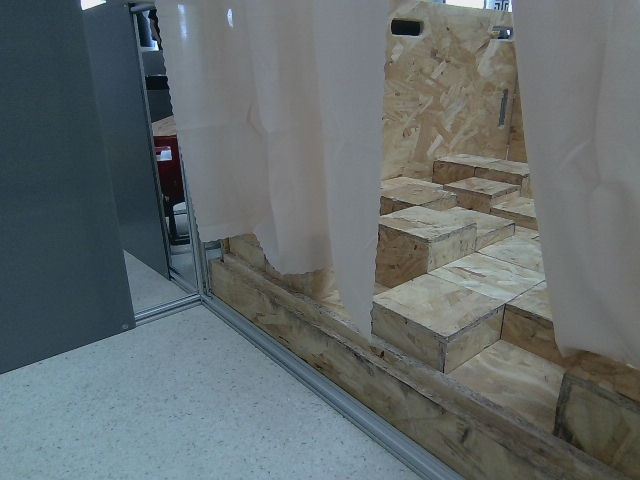curtain: (211, 0, 640, 394)
